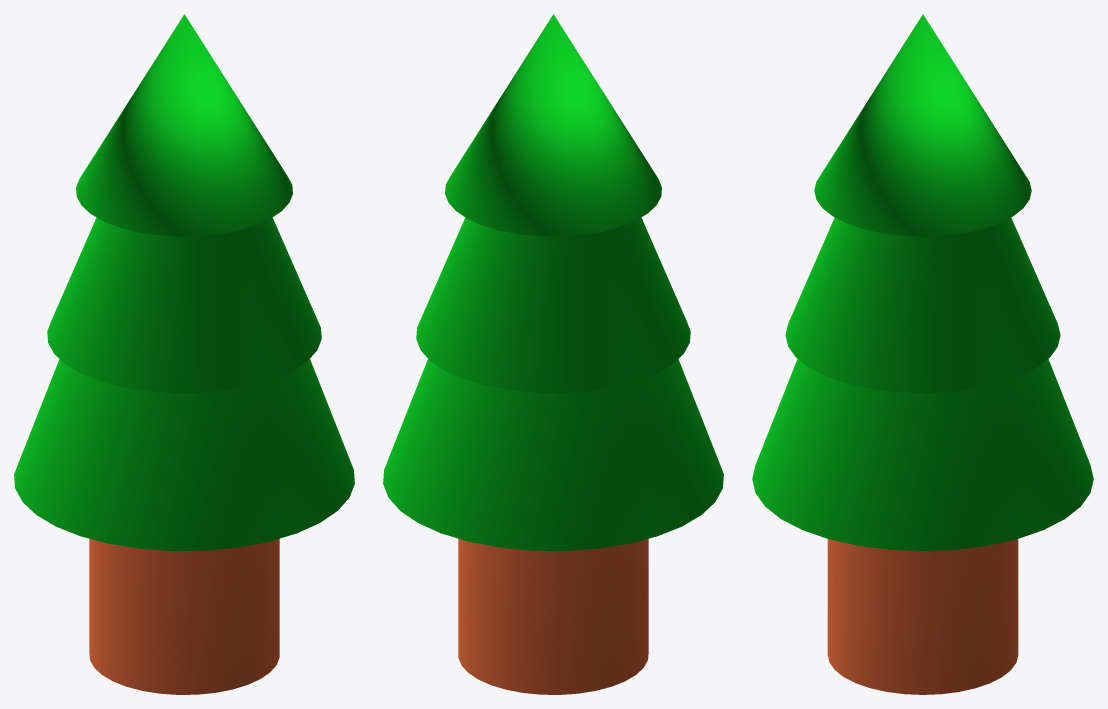
Rendered from tree1.fbx.
3 views of the same model, side by side, from view 1: azimuth 30°, elevation 25°; view 2: azimuth 150°, elevation 25°; view 3: azimuth 270°, elevation 25° (orthographic).
Visible parts, largest first — view 1: Cylinder; view 2: Cylinder; view 3: Cylinder.
Part boxes in pixels (<box>): Cylinder: <box>14,14,354,694</box>; Cylinder: <box>383,14,723,694</box>; Cylinder: <box>752,14,1093,694</box>.
Bounding box in the file's own units: 358 × 741 × 358.
